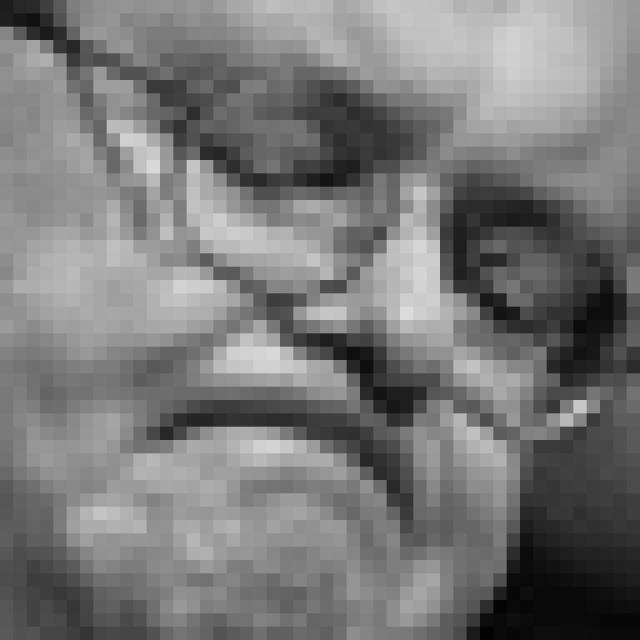sad: (65, 47, 564, 640)
